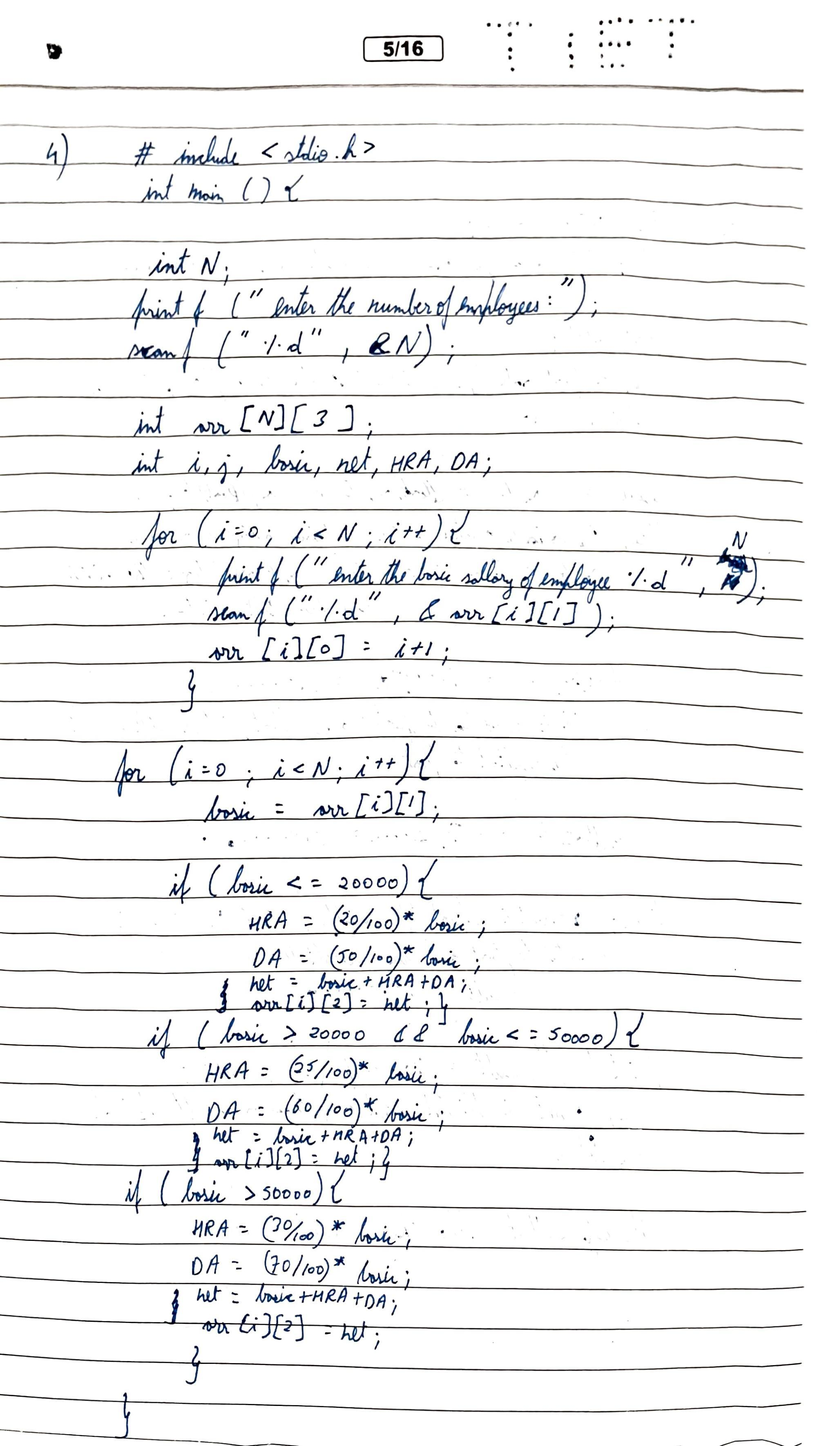cuttings: (715, 544, 754, 592), (160, 1286, 182, 1328), (186, 1131, 202, 1175), (214, 977, 230, 1015)
